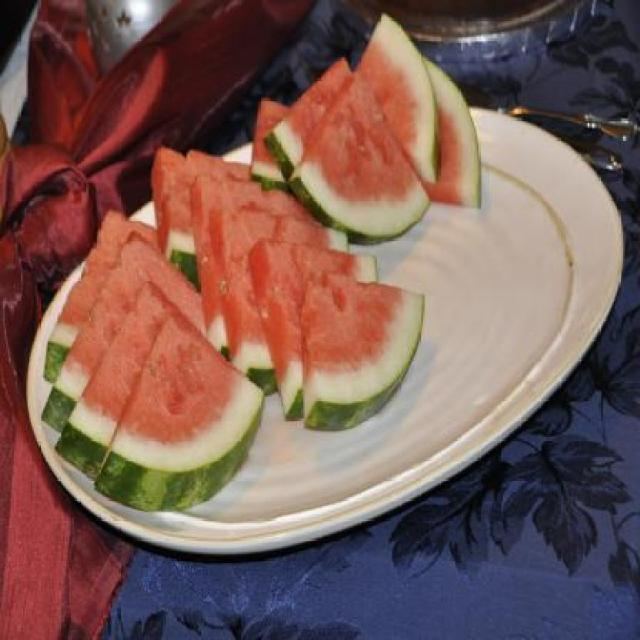Watermelon: (38, 12, 480, 512)
